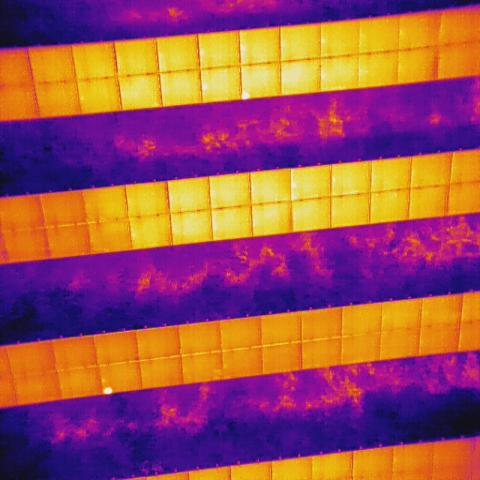fault: (241, 88, 251, 101), (102, 386, 115, 396)
